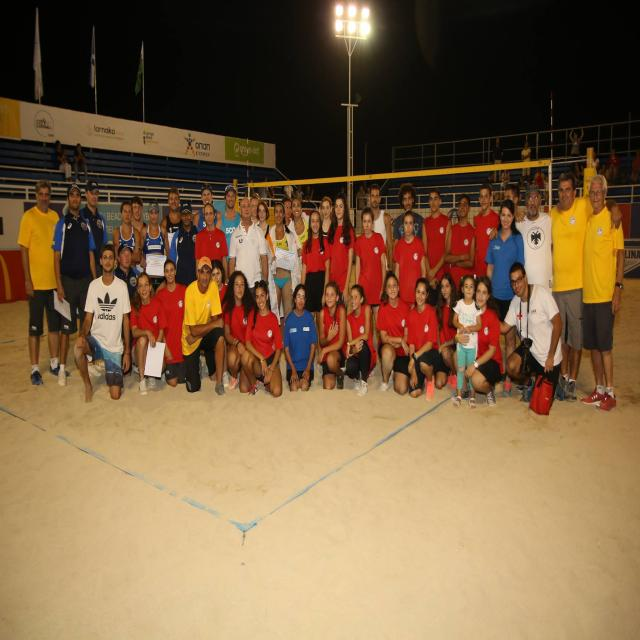body: (17, 178, 71, 390), (51, 182, 104, 388), (545, 170, 592, 402), (580, 174, 625, 413), (73, 242, 132, 404), (499, 261, 563, 407), (484, 198, 525, 398), (488, 183, 554, 296), (451, 274, 504, 406), (180, 255, 226, 394), (352, 205, 388, 379), (240, 278, 284, 400), (128, 271, 170, 398), (300, 210, 332, 366), (376, 268, 412, 398), (265, 201, 302, 326), (488, 198, 525, 322), (227, 196, 270, 302), (406, 276, 440, 404), (221, 270, 256, 394), (322, 192, 357, 316), (155, 257, 188, 388), (451, 273, 482, 411), (421, 186, 453, 310), (344, 283, 377, 399), (283, 284, 318, 392), (391, 209, 427, 312), (203, 258, 231, 389), (112, 242, 138, 378), (316, 282, 348, 390), (392, 182, 428, 274), (443, 192, 477, 288), (78, 179, 108, 281), (168, 200, 202, 288), (471, 182, 501, 280), (194, 202, 228, 288), (140, 202, 170, 298), (434, 272, 458, 390), (361, 184, 393, 272), (285, 196, 311, 293), (112, 200, 142, 270), (220, 185, 243, 266), (192, 184, 222, 232), (160, 187, 182, 234), (54, 140, 73, 183), (569, 126, 584, 174), (255, 200, 273, 240), (129, 194, 147, 232), (605, 148, 621, 188), (74, 142, 89, 184), (492, 136, 504, 184), (321, 196, 333, 238), (281, 196, 294, 233), (256, 175, 274, 201), (520, 139, 532, 176), (533, 166, 545, 200), (575, 164, 587, 198), (248, 192, 260, 224), (283, 177, 298, 200), (597, 163, 610, 187), (631, 150, 640, 183), (356, 185, 366, 210), (244, 178, 255, 198), (266, 186, 276, 207), (542, 173, 548, 206), (592, 151, 600, 175), (304, 186, 314, 202), (364, 187, 371, 208), (483, 171, 495, 183), (500, 170, 510, 183), (296, 184, 302, 202), (341, 186, 345, 193)
